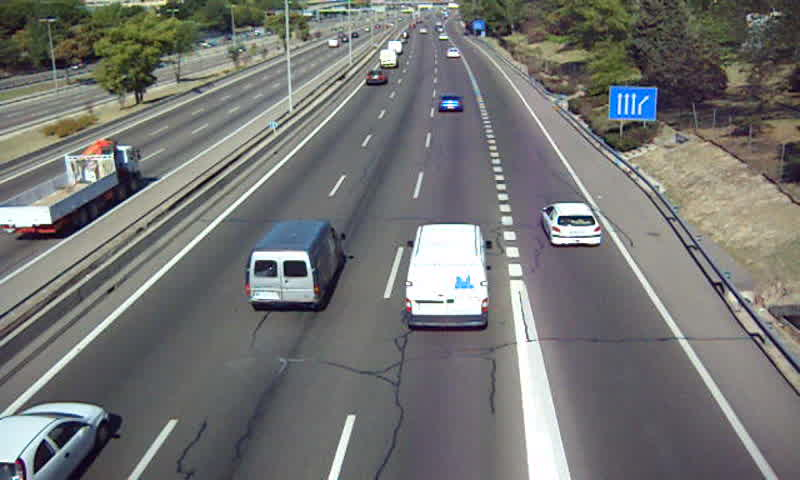car: (1, 403, 109, 480), (540, 201, 602, 248), (436, 94, 465, 112), (365, 69, 388, 86)
van: (245, 221, 346, 312), (404, 224, 489, 329), (379, 49, 398, 68)
